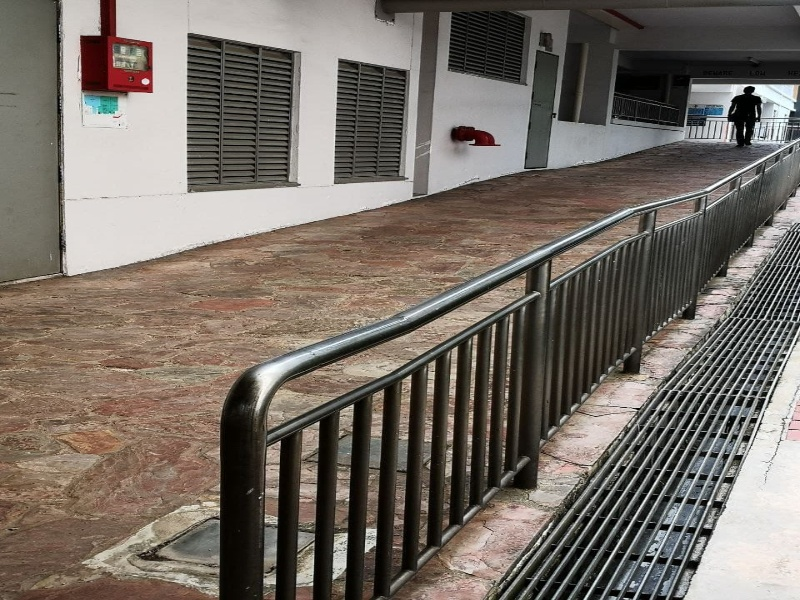slope: (1, 112, 661, 498)
